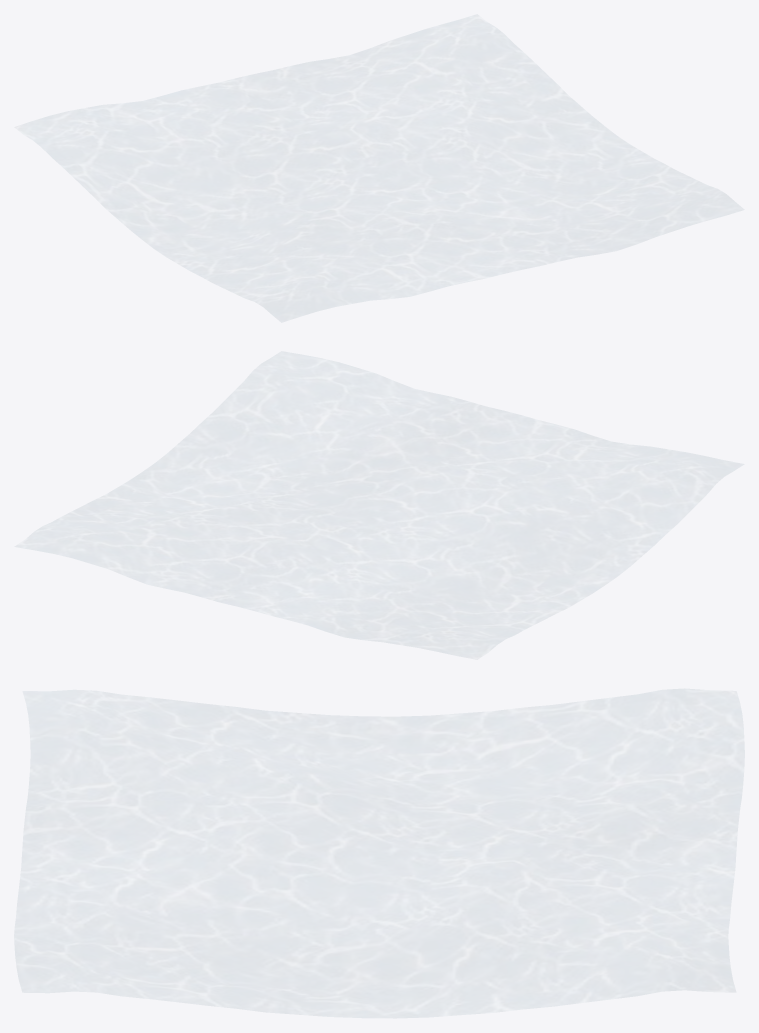
The model's file is 7+ Water wave.glb.
3 views of the same model, one above another, from view 1: azimuth 30°, elevation 25°; view 2: azimuth 150°, elevation 25°; view 3: azimuth 270°, elevation 25° (orthographic). The views are drawn at different scales.
Parts seen in each view (by area): view 1: Cube; view 2: Cube; view 3: Cube.
Boxes of the visible parts, x1,y1,x2,y2 form: Cube: [15, 14, 743, 322]; Cube: [15, 351, 743, 659]; Cube: [14, 689, 744, 1017].
Bounding box in the file's own units: 50.21 × 2.78 × 51.17.
1 material, 1 textured.
